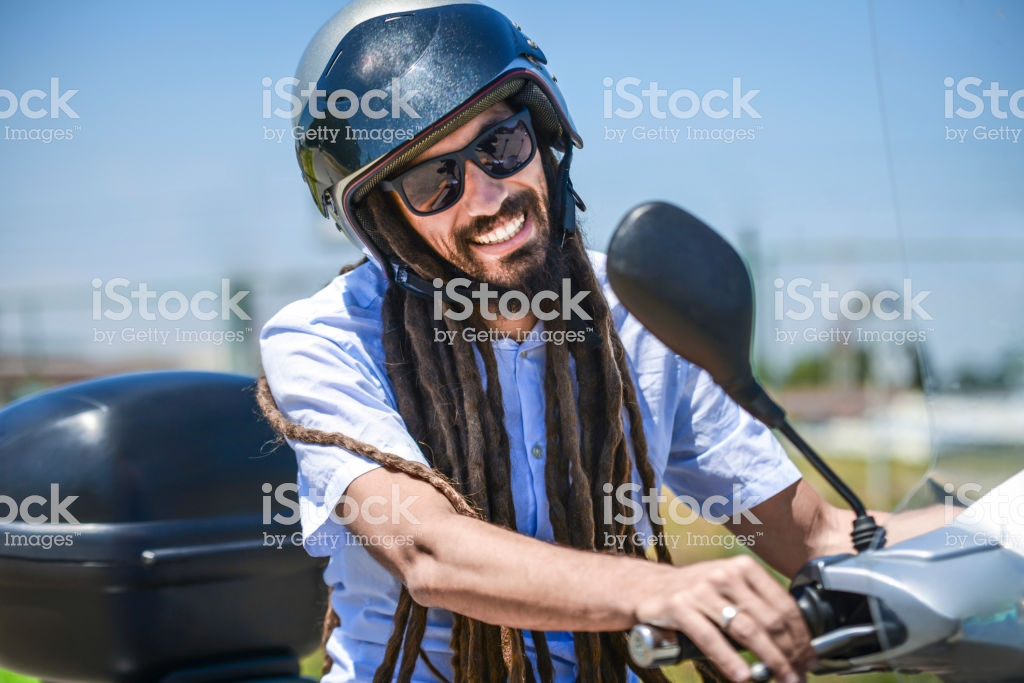helmet: (285, 19, 586, 238)
